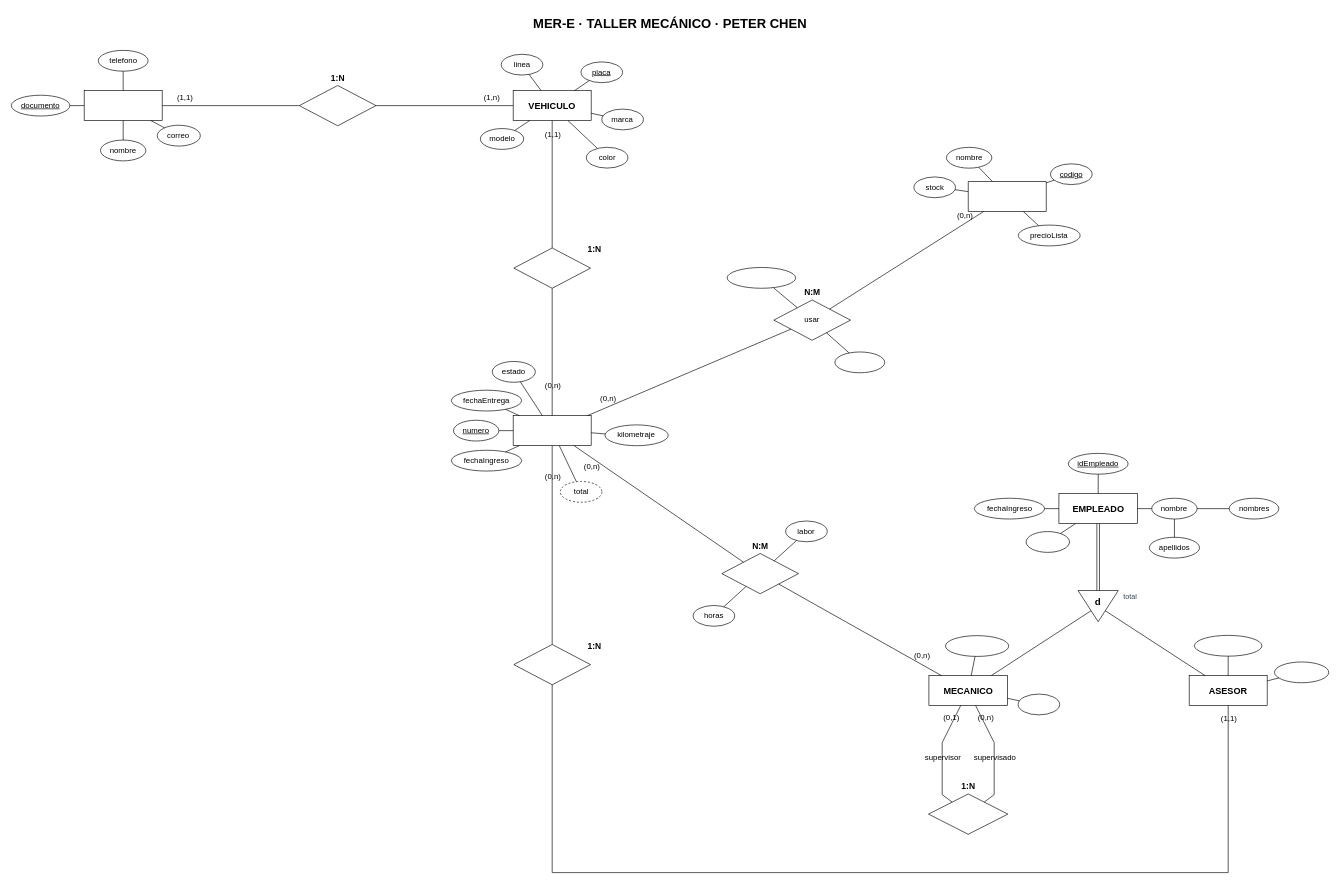
Image size: 1340x885. Some labels were removed from this diagram. Each missing label, with the centre of its shape:
"cantidad" goes at pixel 859 362.
"CLIENTE" goes at pixel 123 105.
"especialidad" goes at pixel 977 645.
"extension" goes at pixel 1301 672.
"generar" goes at pixel 552 267.
"metaMensual" goes at pixel 1228 645.
"nivel" goes at pixel 1038 704.
"ORDEN" goes at pixel 552 430.
"poseer" goes at pixel 337 105.
"recibir" goes at pixel 552 664.
"REPUESTO" goes at pixel 1007 196.
"salario" goes at pixel 1047 541.
"supervisar" goes at pixel 968 813.
"trabajar" goes at pixel 760 573.
"valorUnitario" goes at pixel 761 277.
